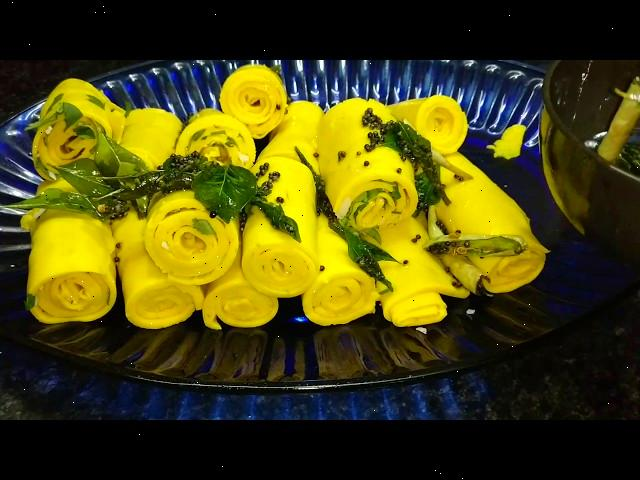khandvi: (6, 83, 539, 351)
